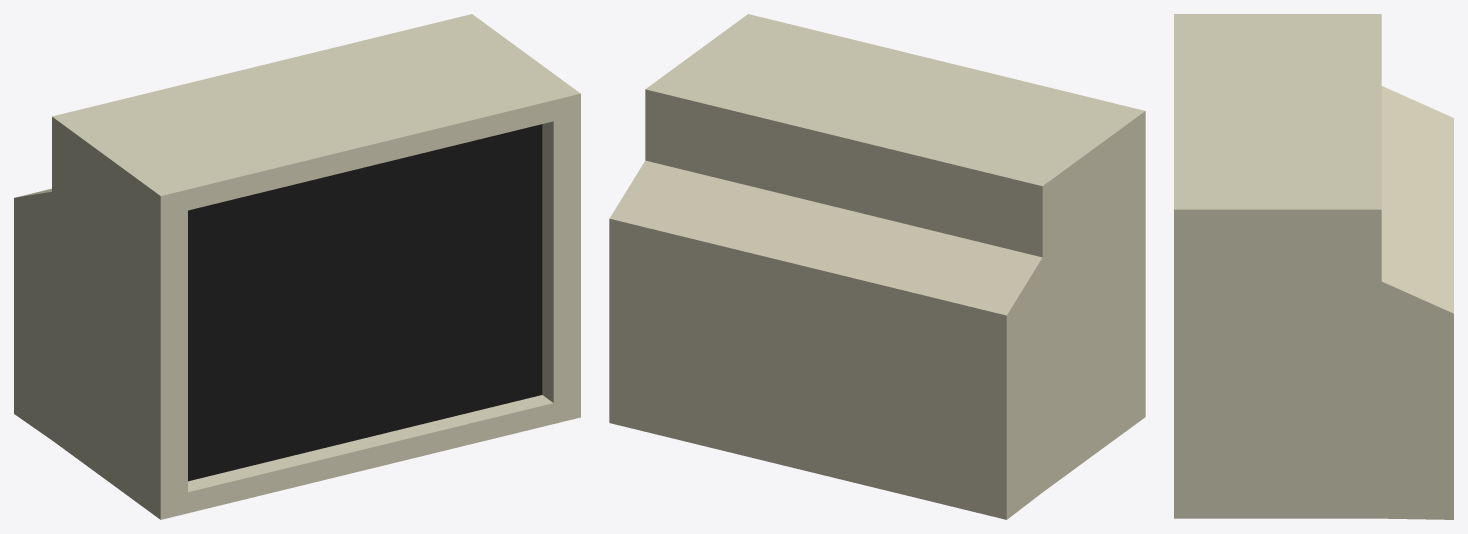
3 renders of one model, left to right at view 1: azimuth 30°, elevation 25°; view 2: azimuth 150°, elevation 25°; view 3: azimuth 270°, elevation 25°, orthographic. The views are drawn at different scales.
Visible parts, largest first — view 1: tv; view 2: tv; view 3: tv.
Part boxes in pixels (x1,y1,x2,y2): tv: (14,14,580,519); tv: (609,14,1145,519); tv: (1174,14,1453,519).
Size of the model in its own units: 33.94 by 25.1 by 20.52.
